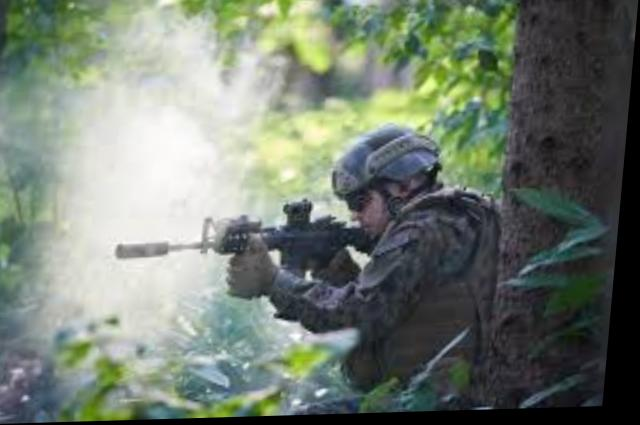other: (293, 125, 526, 400)
